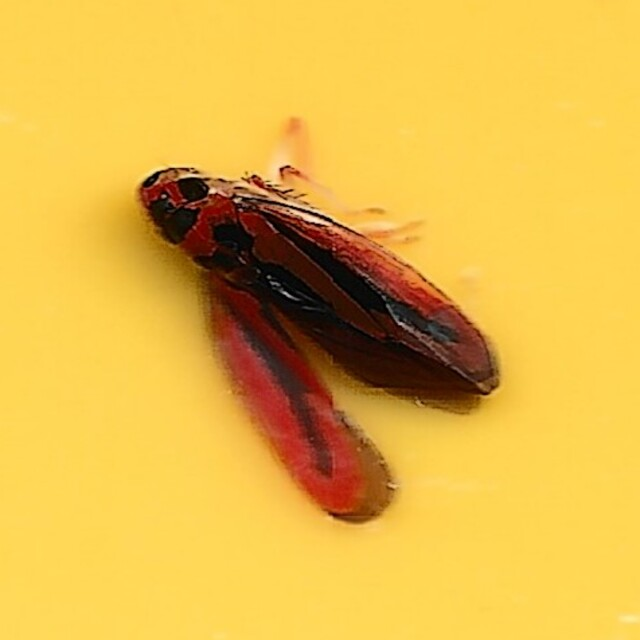Hemiptera: (134, 118, 506, 522)
